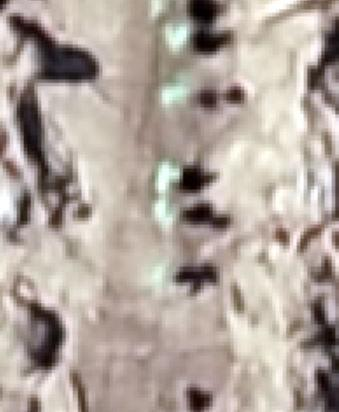cotton: (162, 77, 189, 102), (157, 161, 181, 189), (166, 23, 189, 48), (153, 204, 178, 224)
